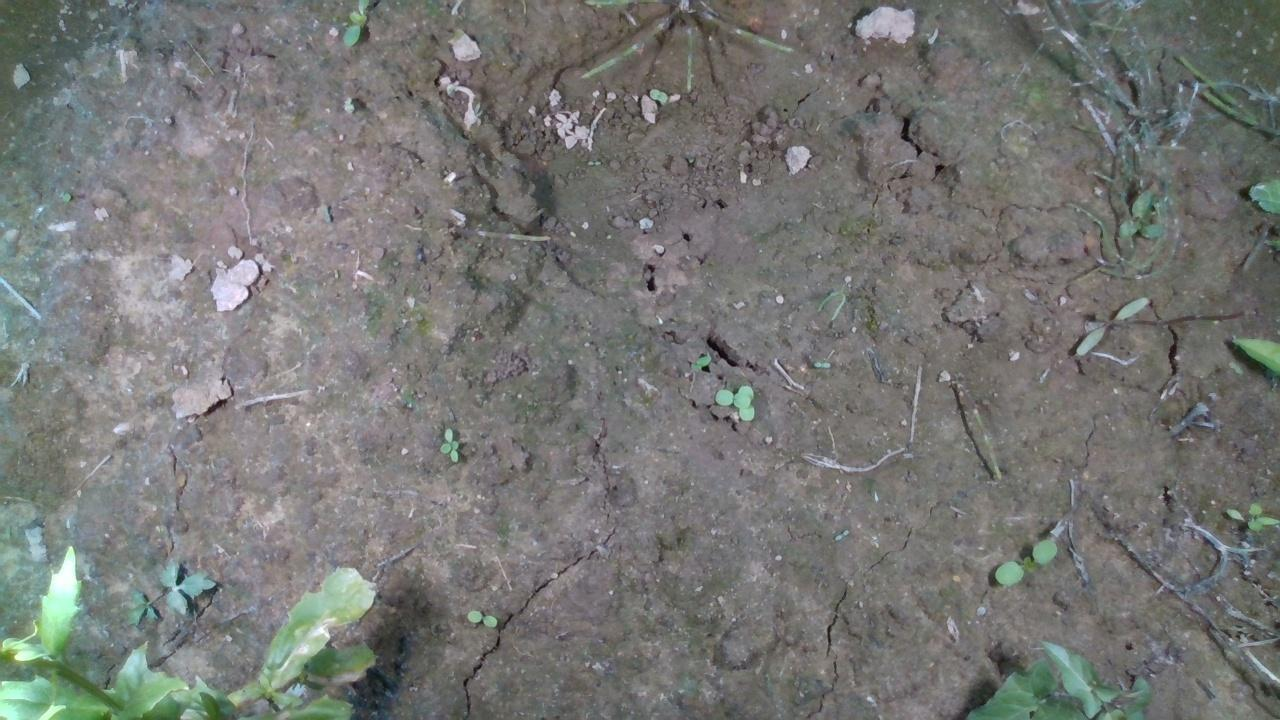weed: (1072, 296, 1151, 356), (993, 537, 1058, 586), (435, 426, 468, 470), (459, 601, 507, 631), (813, 354, 848, 373)
